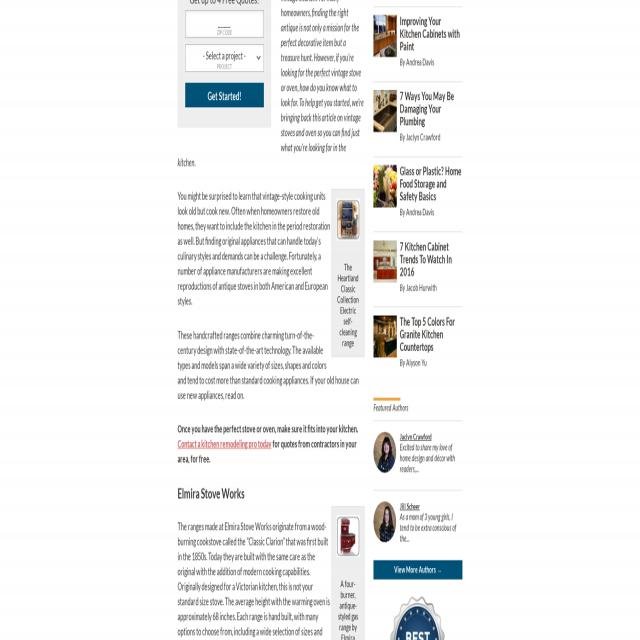button: (185, 83, 263, 108), (373, 560, 462, 580), (373, 165, 397, 208), (336, 198, 360, 241), (373, 240, 397, 283), (336, 515, 360, 558), (373, 90, 397, 132), (373, 315, 397, 357), (373, 15, 397, 57), (374, 501, 396, 543), (374, 432, 396, 473)
field: (185, 11, 263, 38), (186, 46, 264, 73)
